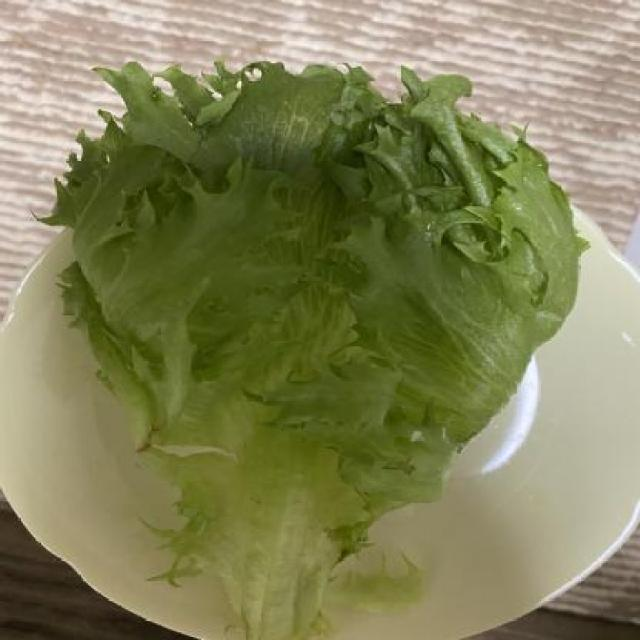lettuce: (38, 57, 594, 640)
